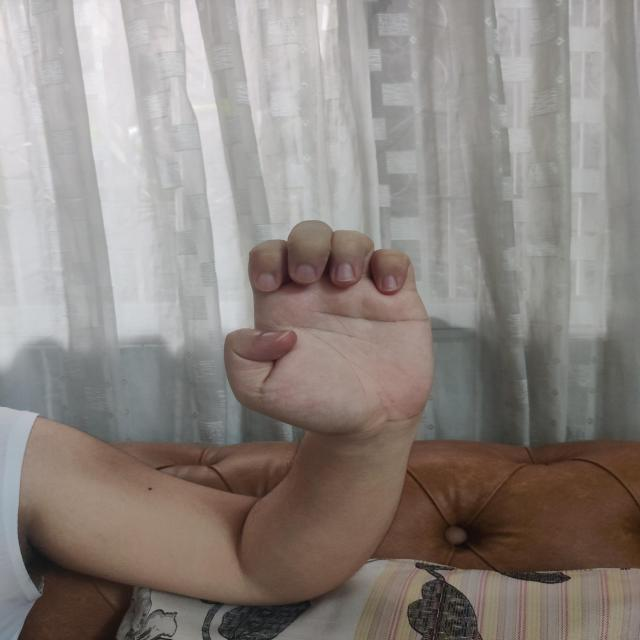E: (222, 219, 436, 435)
